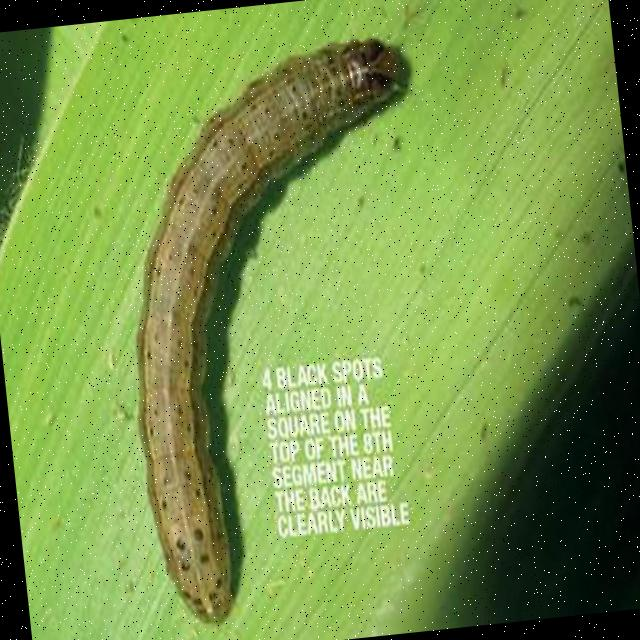worm: (98, 35, 465, 634)
